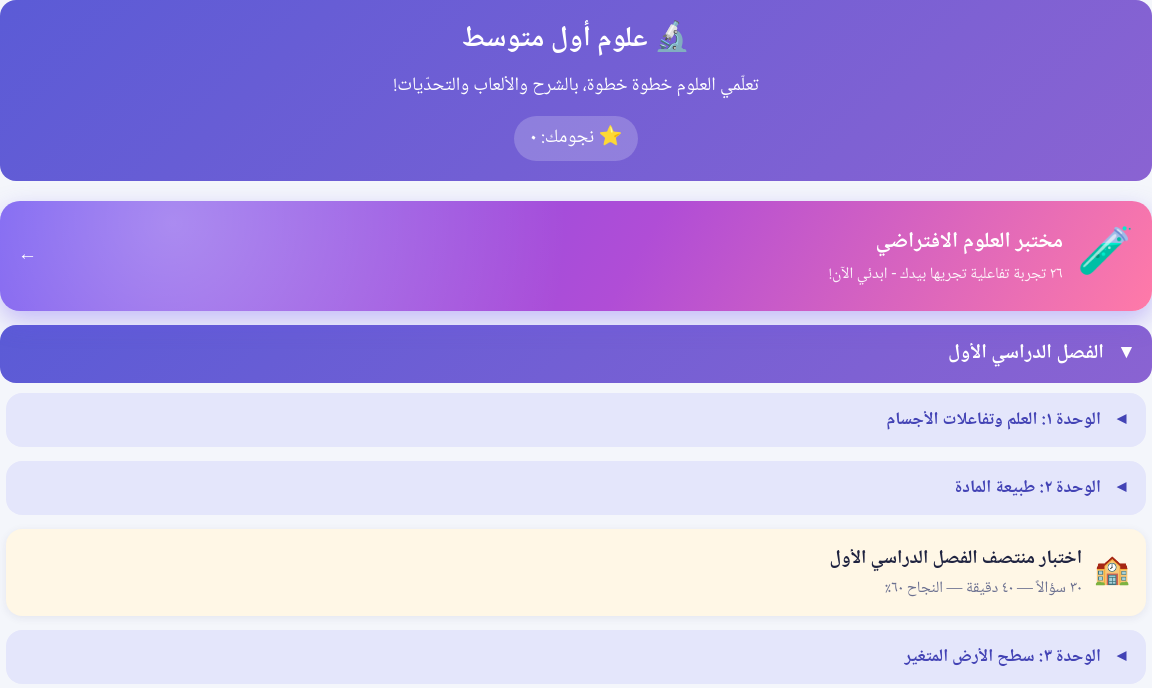
Test case: الصفحة الرئيسية القابلة للطي › اختبارا الفصل خارج الوحدات وتحتها، ومراجعة الوحدة داخلها
Expected: the text "اختبار منتصف الفصل الدراسي الأول" is shown, [830,542,1082,574]
Expected: the text "مراجعة الوحدة ١" is not shown
Click the button "◂ الوحدة ١: العلم وتفاعلات الأجسام" at x=966, y=420, box [6,392,1146,446]
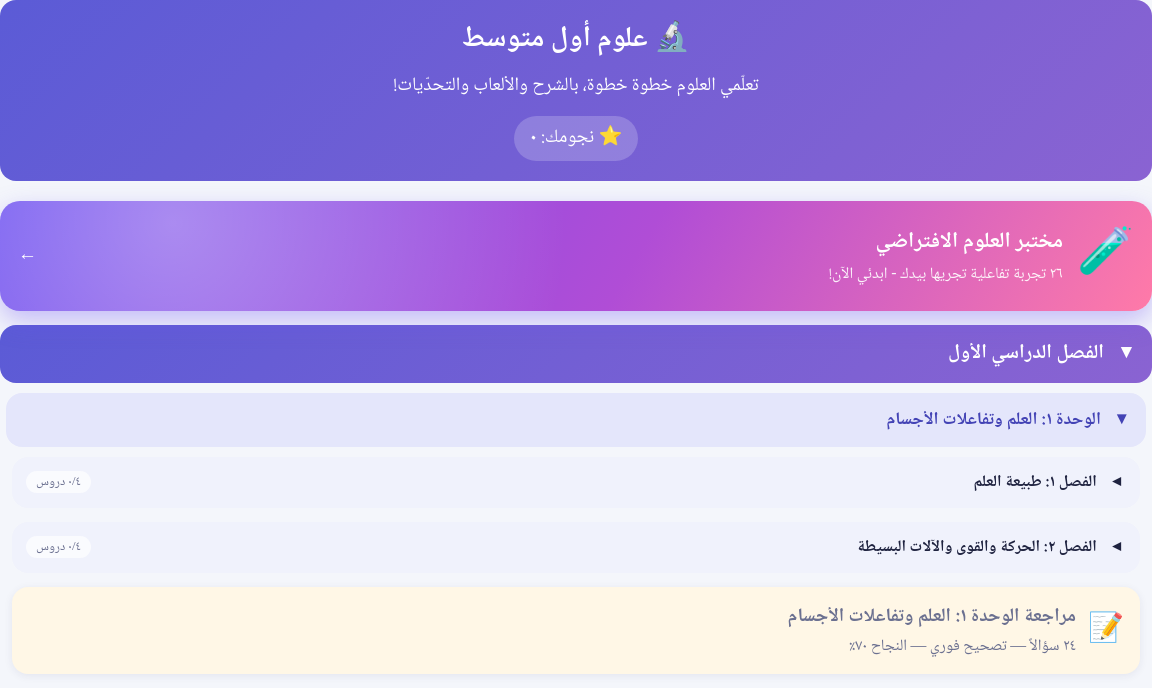
Result: the text "مراجعة الوحدة ١: العلم وتفاعلات الأجسام" is shown at [788,600,1076,632]
